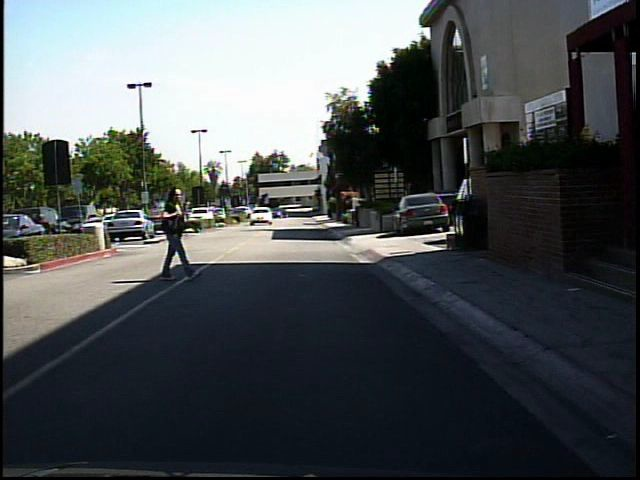person: (151, 180, 198, 283)
